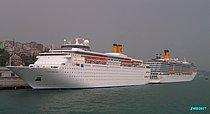Ship: (6, 34, 155, 91), (140, 47, 203, 87)
